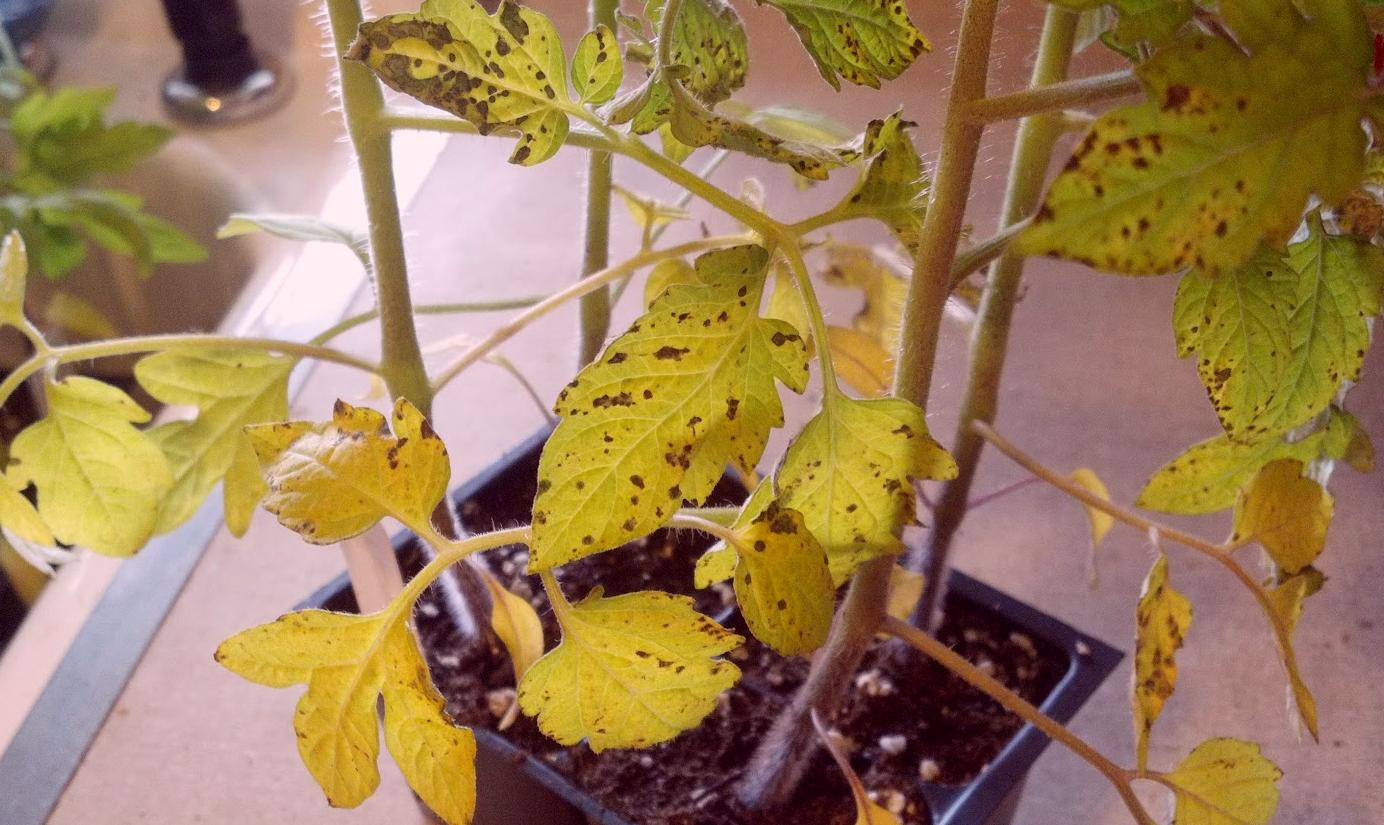Tomato Septoria leaf spot: (1000, 0, 1384, 282), (510, 238, 796, 594), (1142, 209, 1384, 451), (510, 567, 751, 756), (767, 378, 981, 584), (343, 0, 581, 179), (717, 0, 944, 79)
